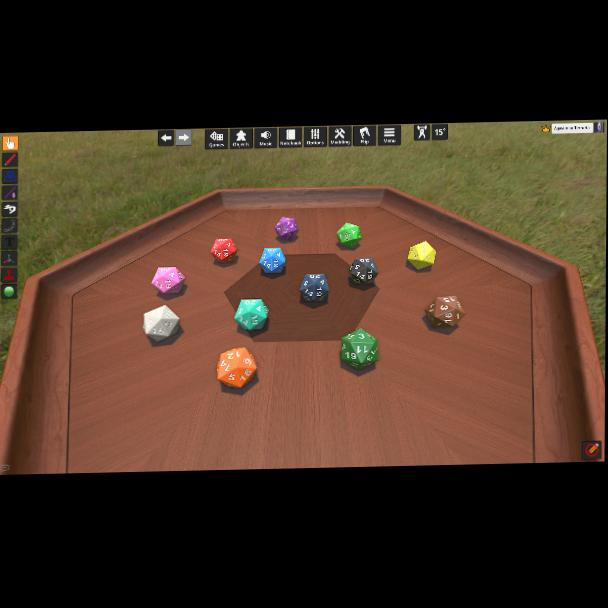d20: (217, 347, 258, 389), (340, 329, 377, 369), (143, 305, 182, 342), (423, 296, 464, 330), (234, 297, 270, 331), (152, 266, 186, 295), (299, 273, 328, 303), (349, 258, 377, 286), (406, 241, 432, 270), (259, 248, 287, 274), (211, 238, 236, 264), (336, 223, 360, 249), (275, 216, 299, 241)
